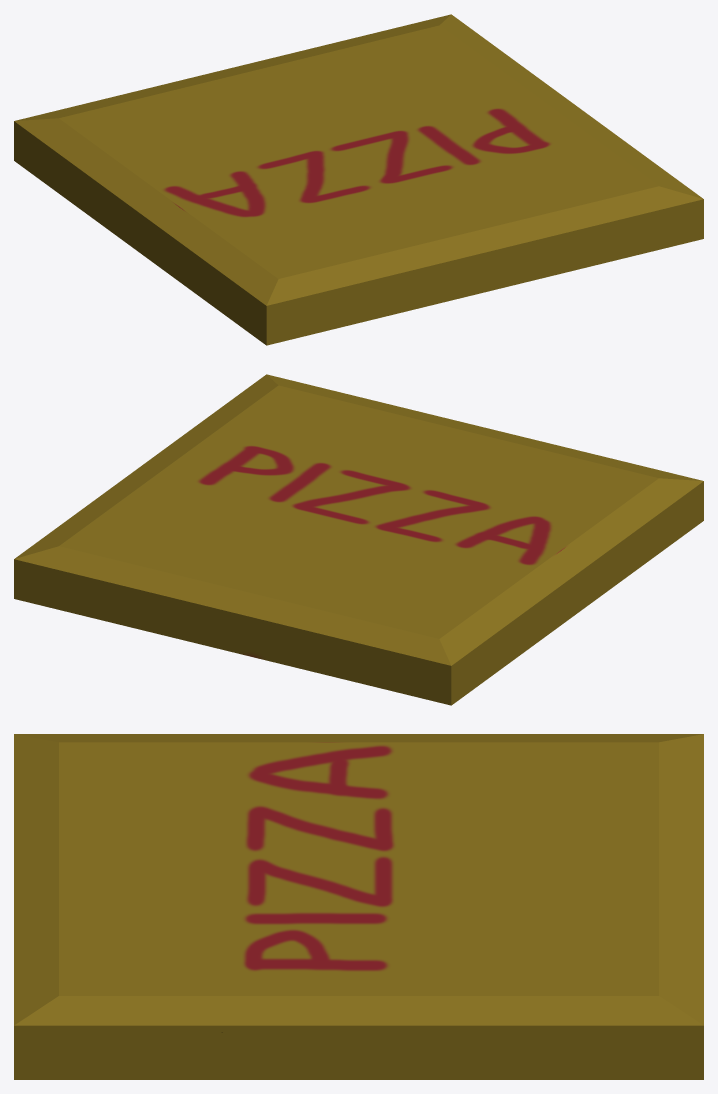
File: Pizza.glb
The picture shows the model from 3 angles, top to bottom: view 1: azimuth 30°, elevation 25°; view 2: azimuth 150°, elevation 25°; view 3: azimuth 270°, elevation 25°; orthographic projection. The views are drawn at different scales.
Parts seen in each view (by area): view 1: Cube; view 2: Cube; view 3: Cube.
Boxes of the visible parts, x1,y1,x2,y2 form: Cube: (14,14,703,345); Cube: (14,374,703,705); Cube: (14,734,703,1079).
Bounding box in the file's own units: 3.35 × 0.3485 × 3.35.
1 material, 1 textured.
